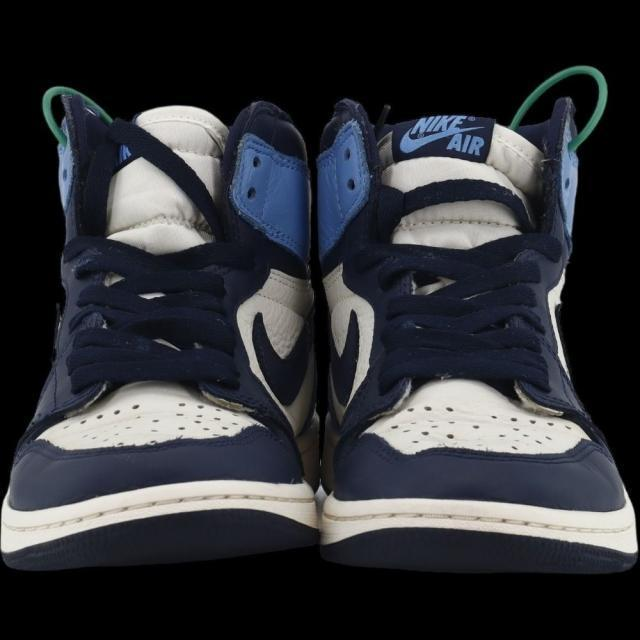nike original jordan 1: (0, 62, 322, 568), (313, 89, 640, 582)
